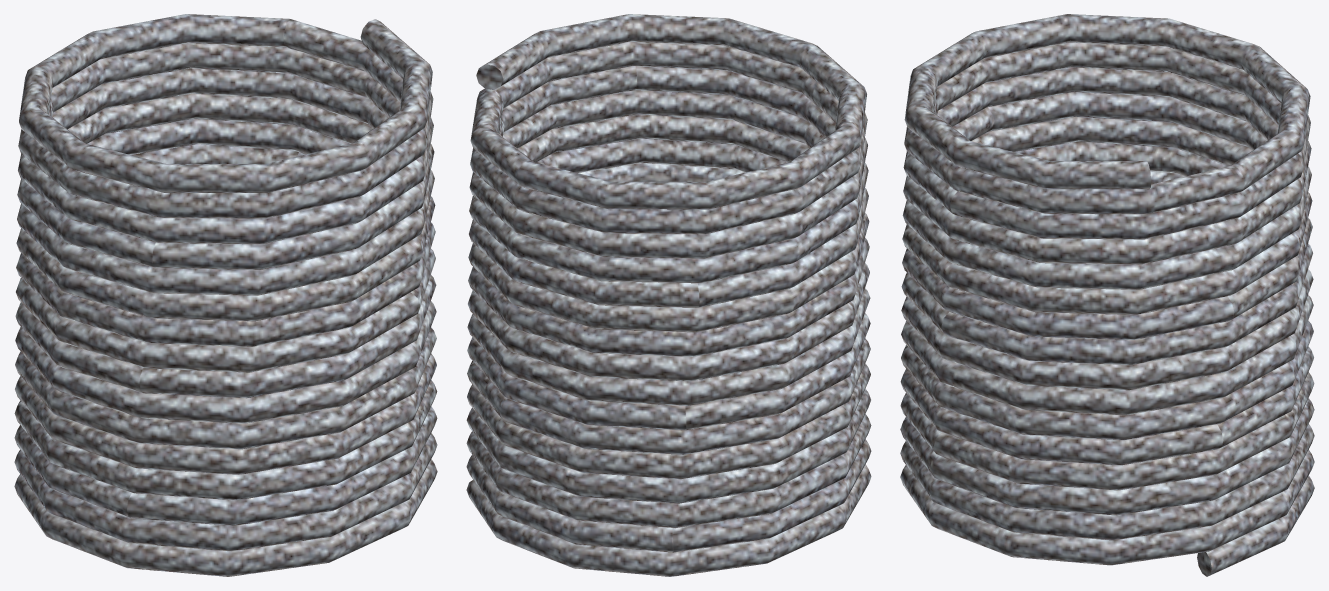
3 views of the same model, side by side, from view 1: azimuth 30°, elevation 25°; view 2: azimuth 150°, elevation 25°; view 3: azimuth 270°, elevation 25° (orthographic). The views are drawn at different scales.
Visible parts, largest first — view 1: Detail1; view 2: Detail1; view 3: Detail1.
Boxes of the visible parts, <box> form: Detail1: <box>14,14,437,576</box>; Detail1: <box>466,14,871,576</box>; Detail1: <box>900,14,1314,576</box>.
Size of the model in its own units: 0.114 by 0.128 by 0.114.
Materials: 1 (1 with a texture image).
